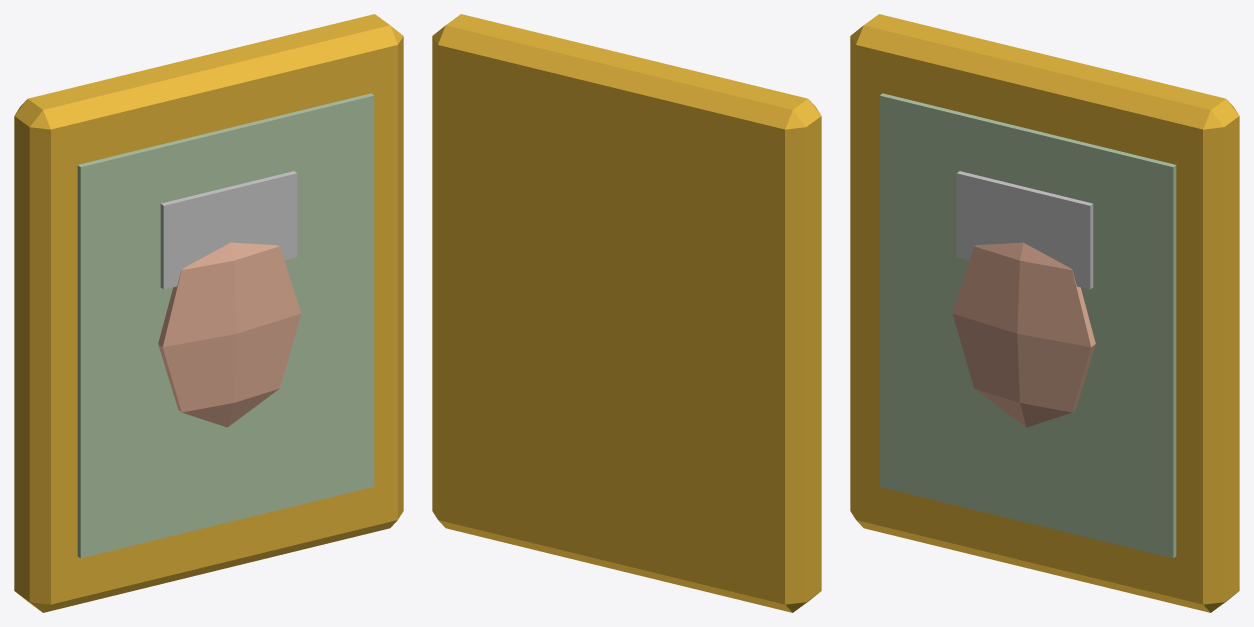
Rendered from photoFrame.fbx.
The picture shows the model from 3 angles, left to right: view 1: azimuth 30°, elevation 25°; view 2: azimuth 150°, elevation 25°; view 3: azimuth 330°, elevation 25°; orthographic projection.
Visible parts, largest first — view 1: photoFrame; view 2: photoFrame; view 3: photoFrame.
Boxes of the visible parts, left/top/right/bottom form: photoFrame: left=14, top=14, right=403, bottom=612; photoFrame: left=432, top=14, right=821, bottom=612; photoFrame: left=850, top=14, right=1239, bottom=612.
Size of the model in its own units: 0.56 by 0.72 by 0.112.
